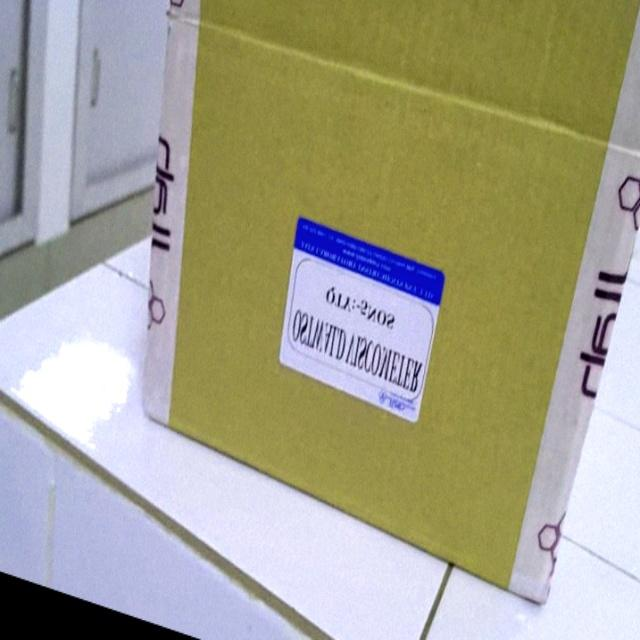Ostwald Viscometer: (121, 95, 614, 590)
